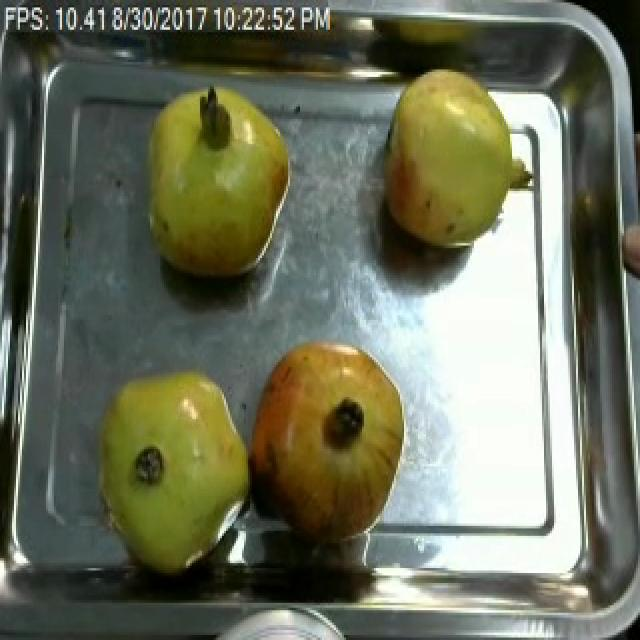fruit: (82, 355, 256, 580), (244, 330, 414, 558), (134, 74, 300, 283), (374, 57, 534, 261)
